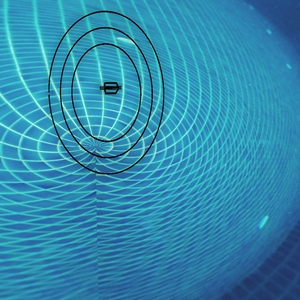circle: (43, 11, 182, 177)
submarine: (101, 81, 120, 94)
